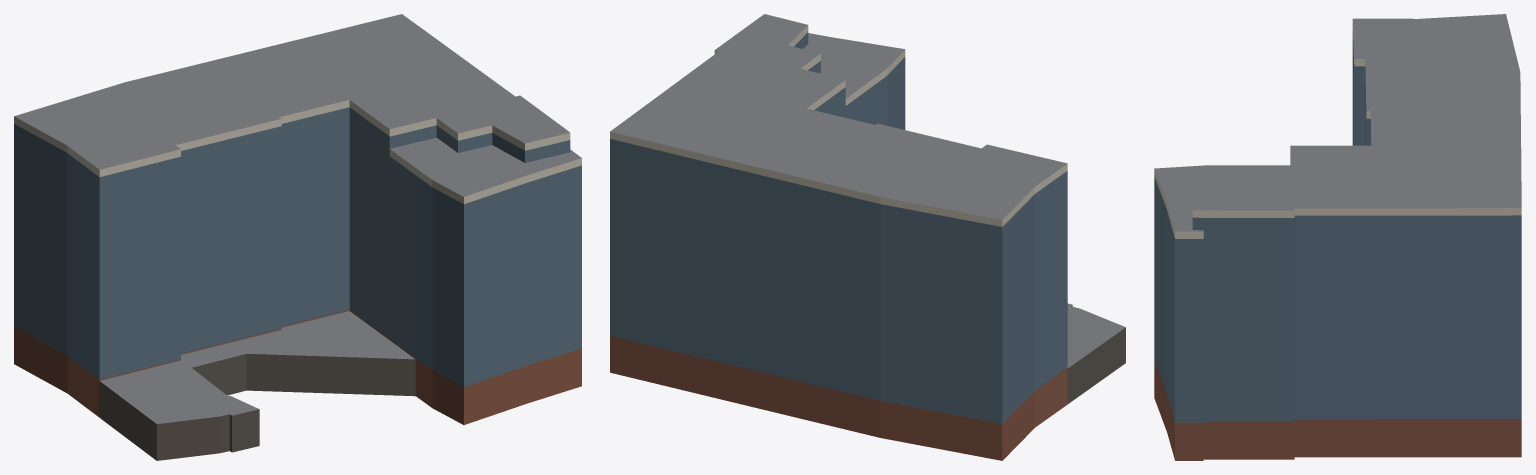
File: the_charles.glb
The picture shows the model from 3 angles, left to right: view 1: azimuth 30°, elevation 25°; view 2: azimuth 150°, elevation 25°; view 3: azimuth 270°, elevation 25°; orthographic projection. The views are drawn at different scales.
Visible parts, largest first — view 1: The_Charles; view 2: The_Charles; view 3: The_Charles.
Part boxes in pixels (x1,y1,x2,y2): The_Charles: (14, 14, 581, 460); The_Charles: (610, 14, 1125, 460); The_Charles: (1154, 14, 1521, 460).
Bounding box in the file's own units: 68.82 × 40.4 × 54.02.
